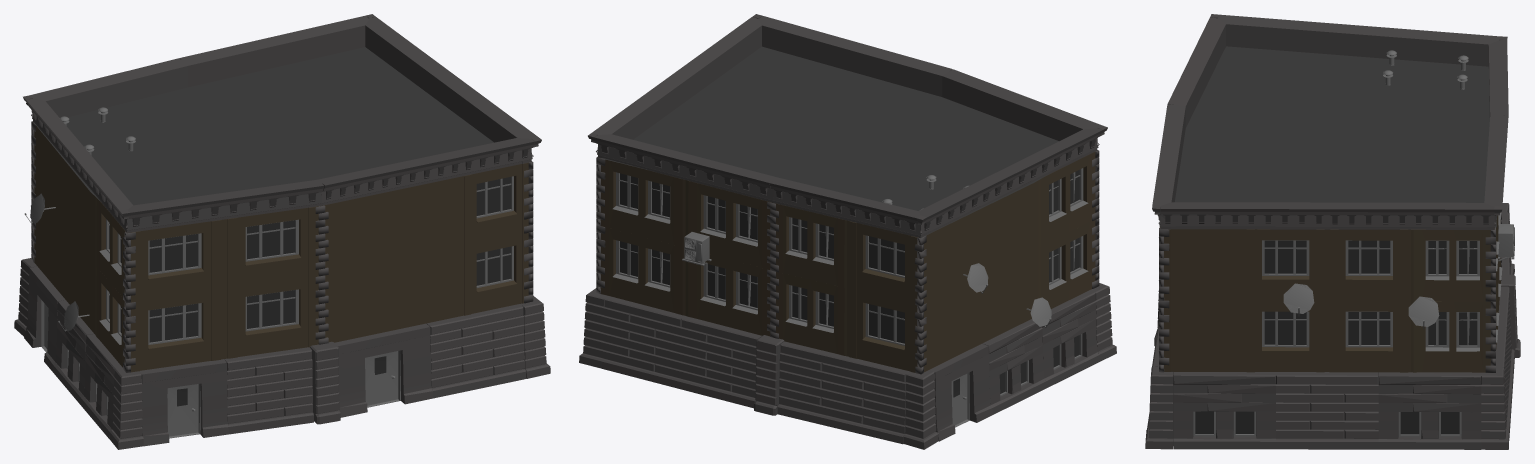
3 views of the same model, side by side, from view 1: azimuth 30°, elevation 25°; view 2: azimuth 150°, elevation 25°; view 3: azimuth 270°, elevation 25° (orthographic). The views are drawn at different scales.
Visible parts, largest first — view 1: Plane.008, ground_floor_wall_02.080, ground_floor_wall_01.028, middle_floor_wall_03.145, middle_floor_wall_03.143, ground_floor_wall_02.083, middle_floor_wall_03.144, middle_floor_wall_03.142, ground_floor_wall_01.030, middle_floor_wall_01.188, middle_floor_wall_01.186, middle_floor_wall_03.139 (+38 smaller); view 2: Plane.008, ground_floor_wall_02.085, ground_floor_wall_02.081, ground_floor_wall_02.082, middle_floor_wall_02.356, middle_floor_wall_02.354, middle_floor_wall_02.355, middle_floor_wall_02.357, middle_floor_wall_03.141, middle_floor_wall_02.359, middle_floor_wall_03.140, middle_floor_wall_02.358 (+34 smaller); view 3: Plane.008, ground_floor_wall_03.030, ground_floor_wall_02.084, ground_floor_wall_03.029, middle_floor_wall_03.149, middle_floor_wall_03.147, middle_floor_wall_03.146, middle_floor_wall_03.148, middle_floor_wall_02.363, middle_floor_wall_01.194, middle_floor_wall_01.195, middle_floor_wall_02.362 (+28 smaller).
Boxes of the visible parts, bbox=[...] form: Plane.008: bbox=[33, 47, 493, 205]; ground_floor_wall_02.080: bbox=[426, 304, 526, 398]; ground_floor_wall_01.028: bbox=[334, 323, 432, 417]; middle_floor_wall_03.145: bbox=[224, 206, 320, 289]; middle_floor_wall_03.143: bbox=[224, 276, 318, 358]; ground_floor_wall_02.083: bbox=[224, 347, 313, 434]; middle_floor_wall_03.144: bbox=[127, 219, 224, 302]; middle_floor_wall_03.142: bbox=[131, 289, 224, 372]; ground_floor_wall_01.030: bbox=[140, 359, 228, 446]; middle_floor_wall_01.188: bbox=[391, 176, 461, 260]; middle_floor_wall_01.186: bbox=[391, 246, 461, 330]; middle_floor_wall_03.139: bbox=[461, 162, 528, 245]; Plane.008: bbox=[601, 46, 1058, 236]; ground_floor_wall_02.085: bbox=[777, 341, 909, 444]; ground_floor_wall_02.081: bbox=[601, 296, 684, 388]; ground_floor_wall_02.082: bbox=[678, 316, 761, 408]; middle_floor_wall_02.356: bbox=[598, 157, 685, 247]; middle_floor_wall_02.354: bbox=[600, 227, 685, 315]; middle_floor_wall_02.355: bbox=[685, 254, 770, 336]; middle_floor_wall_02.357: bbox=[685, 180, 772, 269]; middle_floor_wall_03.141: bbox=[847, 220, 917, 304]; middle_floor_wall_02.359: bbox=[774, 203, 846, 288]; middle_floor_wall_03.140: bbox=[847, 288, 917, 372]; middle_floor_wall_02.358: bbox=[776, 272, 846, 356]; Plane.008: bbox=[1175, 46, 1496, 227]; ground_floor_wall_03.030: bbox=[1378, 372, 1481, 449]; ground_floor_wall_02.084: bbox=[1276, 372, 1378, 449]; ground_floor_wall_03.029: bbox=[1173, 372, 1275, 449]; middle_floor_wall_03.149: bbox=[1327, 229, 1410, 301]; middle_floor_wall_03.147: bbox=[1327, 301, 1410, 372]; middle_floor_wall_03.146: bbox=[1244, 300, 1327, 372]; middle_floor_wall_03.148: bbox=[1244, 229, 1327, 301]; middle_floor_wall_02.363: bbox=[1411, 229, 1491, 301]; middle_floor_wall_01.194: bbox=[1171, 300, 1243, 371]; middle_floor_wall_01.195: bbox=[1171, 229, 1243, 300]; middle_floor_wall_02.362: bbox=[1411, 301, 1490, 372].
Size of the model in its own units: 1910 by 1010 by 1446.
